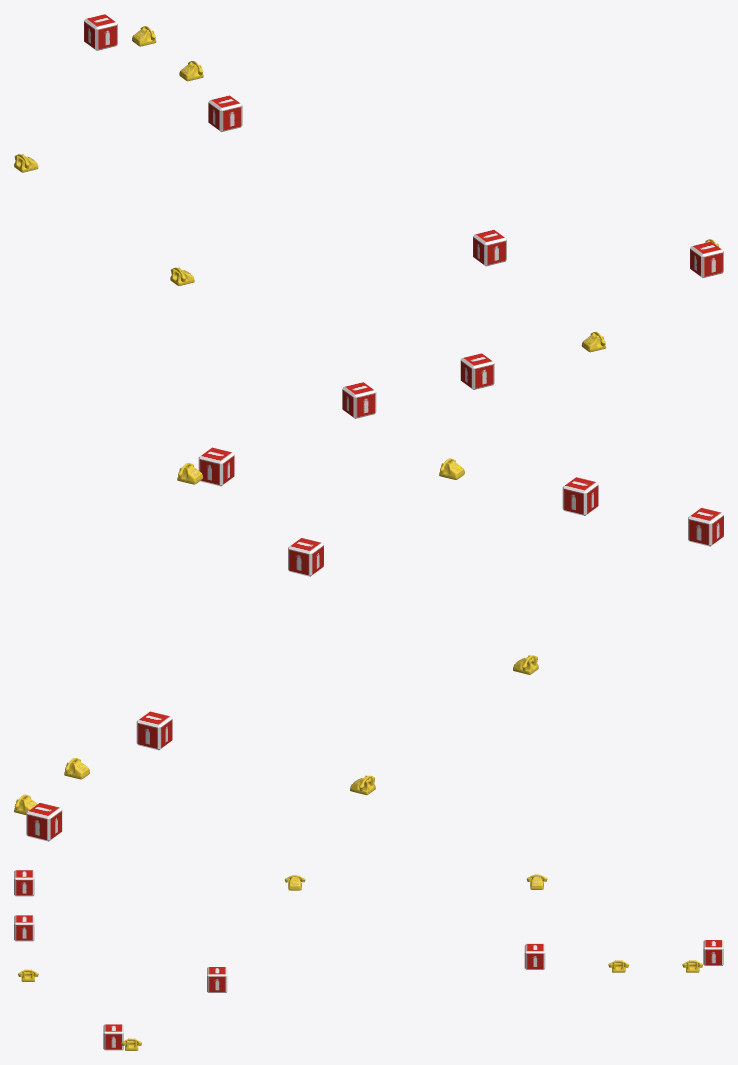
The model's file is Navigation_1_Extra.glb.
3 renders of one model, top to bottom at view 1: azimuth 30°, elevation 25°; view 2: azimuth 150°, elevation 25°; view 3: azimuth 270°, elevation 25°, orthographic. The views are drawn at different scales.
Parts seen in each view (by area): view 1: Navigation_1_Extra; view 2: Navigation_1_Extra; view 3: Navigation_1_Extra.
Part boxes in pixels (bbox=[...]): Navigation_1_Extra: bbox=[14, 14, 723, 418]; Navigation_1_Extra: bbox=[14, 447, 723, 841]; Navigation_1_Extra: bbox=[14, 870, 723, 1050].
Size of the model in its own units: 18.58 by 0.9675 by 33.28.
3 materials, 2 textured.
